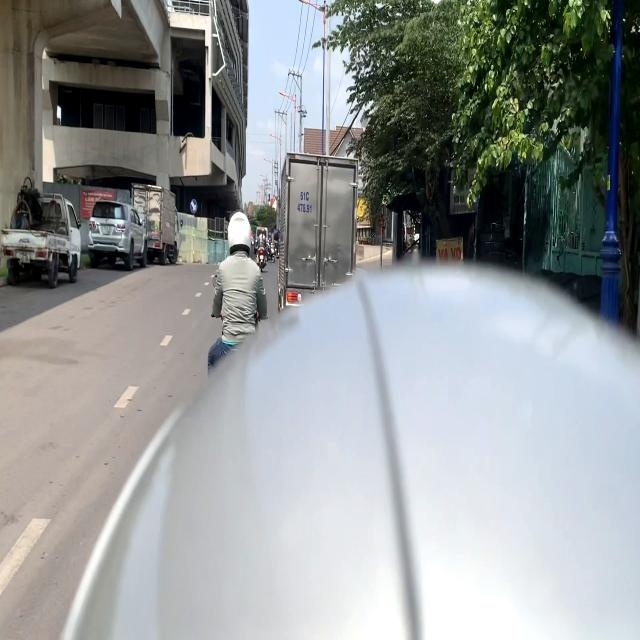bien_hieu_lenh: (190, 199, 198, 214)
